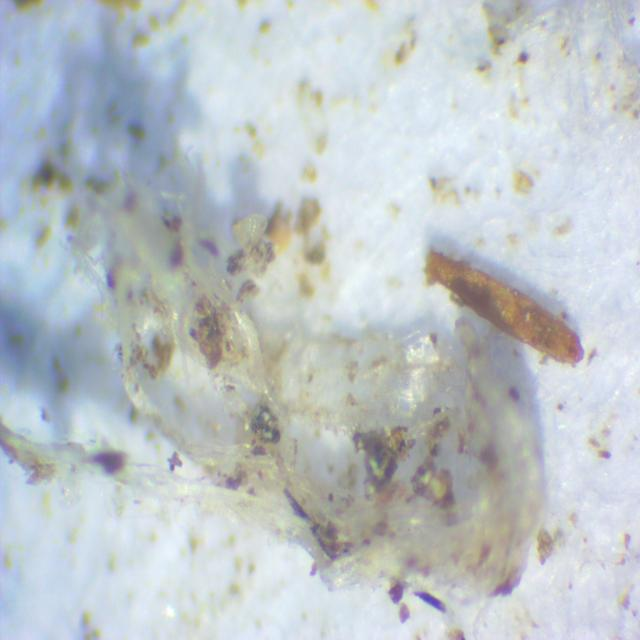microplastic: (0, 177, 547, 599)
